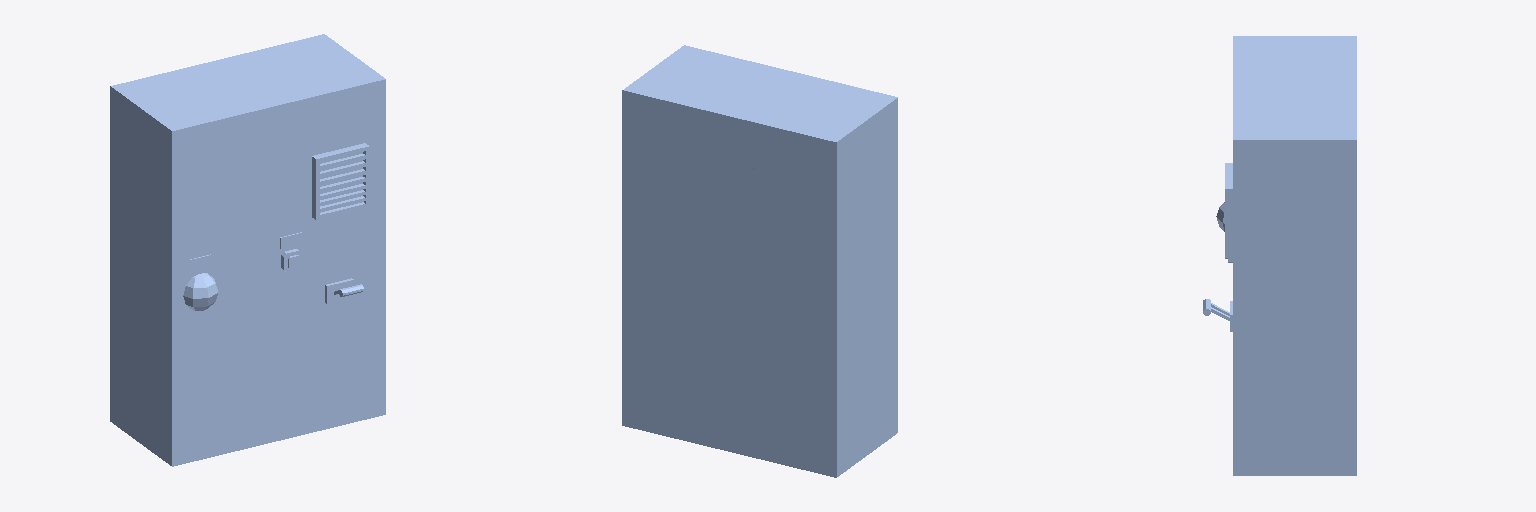
3 renders of one model, left to right at view 1: azimuth 30°, elevation 25°; view 2: azimuth 150°, elevation 25°; view 3: azimuth 270°, elevation 25°, orthographic.
Visible parts, largest first — view 1: switchboard1:name10; view 2: switchboard1:name10; view 3: switchboard1:name10.
Part boxes in pixels (left/top/right/bottom): switchboard1:name10: left=110, top=34, right=385, bottom=466; switchboard1:name10: left=622, top=45, right=897, bottom=477; switchboard1:name10: left=1203, top=36, right=1356, bottom=475.
Size of the model in its own units: 1 by 1.5 by 0.6232.
1 materials, 1 textured.